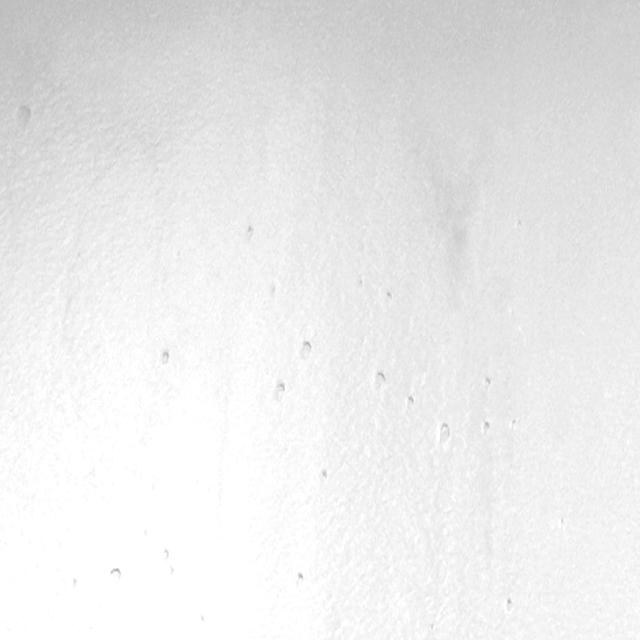pin holes: (8, 105, 34, 136), (104, 564, 124, 588), (434, 422, 452, 448), (370, 370, 388, 392), (296, 338, 314, 360), (269, 378, 286, 399), (156, 545, 172, 567), (155, 348, 171, 367), (500, 595, 515, 614), (402, 394, 416, 414), (382, 289, 395, 309), (242, 224, 256, 242), (291, 571, 305, 588), (479, 374, 492, 390), (68, 576, 81, 592), (353, 274, 366, 290), (507, 416, 518, 434), (318, 469, 330, 485), (195, 612, 207, 628), (554, 516, 566, 532), (164, 566, 176, 582), (480, 418, 492, 433)
